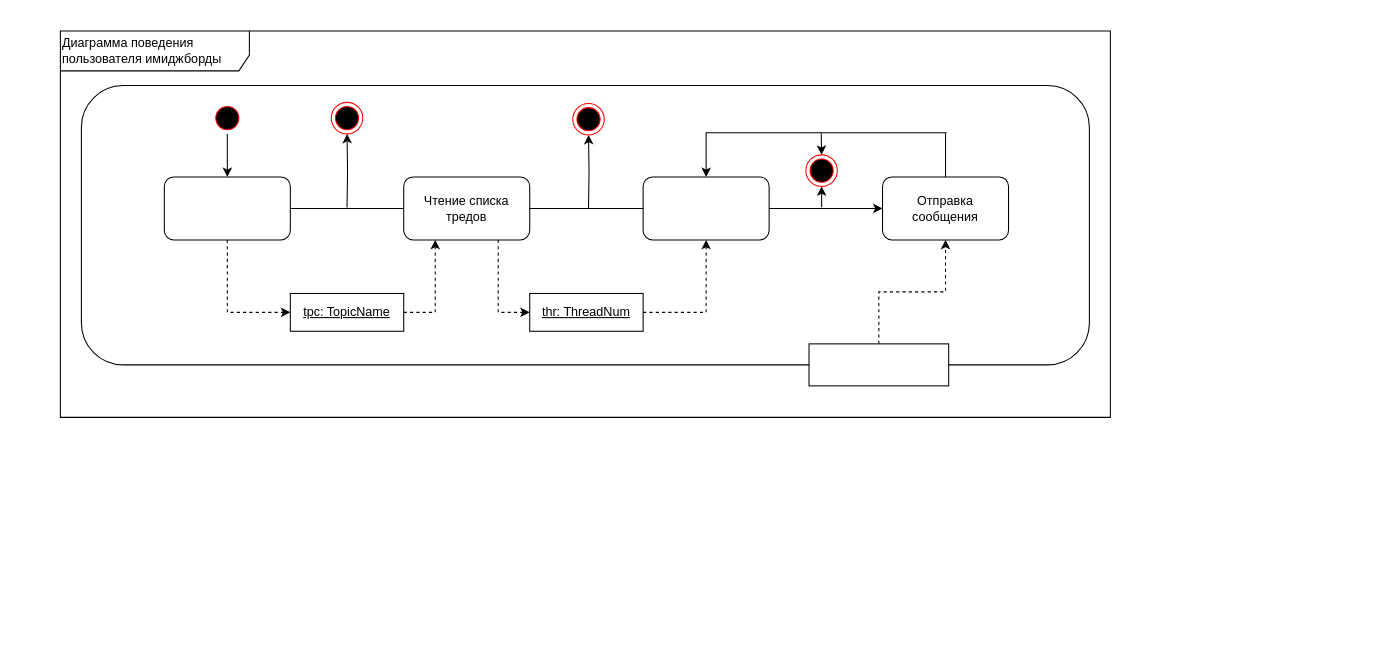
Image size: 1390x666. Some labels were removed from this diagram. Here are the shapes that lost their labels. From the top down, the box of each, then its label:
(163, 176, 290, 240): Выбор интересующей тематики в меню
(642, 176, 769, 240): Чтение треда
(808, 343, 949, 386): ip: IP-адрес посетителя
